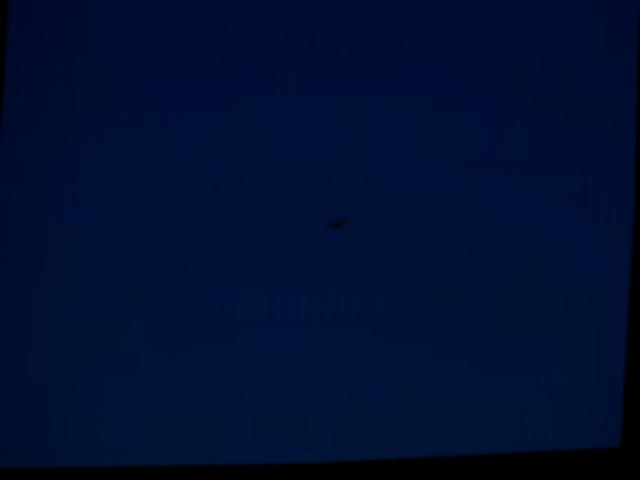plane: (325, 222, 349, 234)
